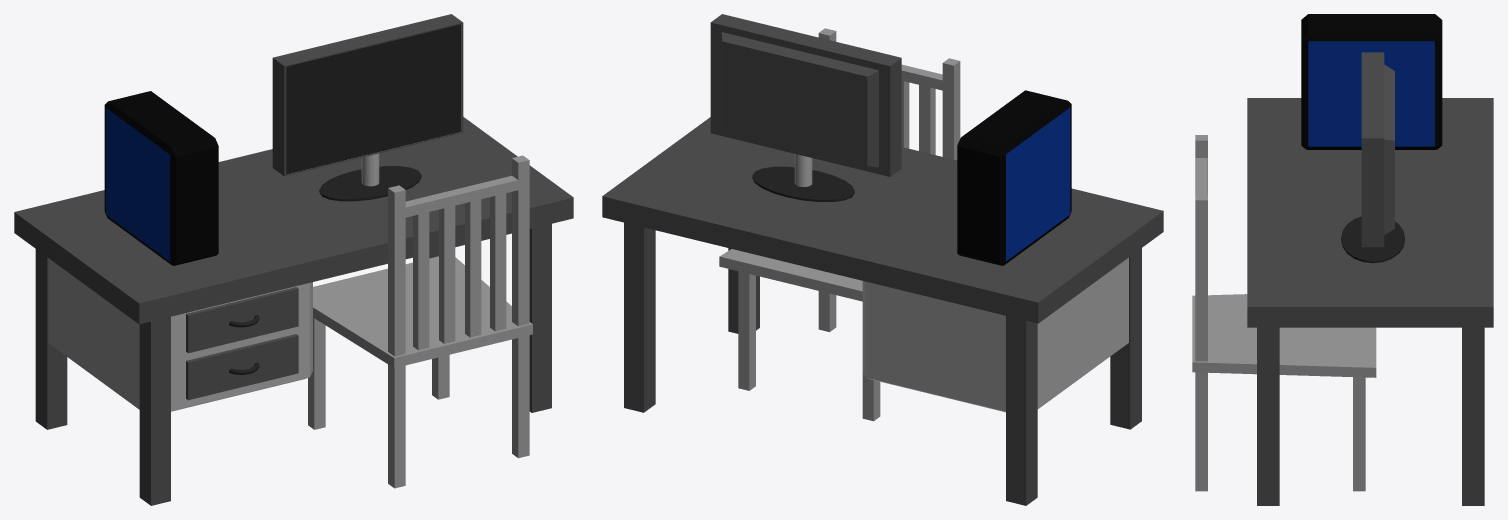
The model's file is DeskWithComp.fbx.
3 views of the same model, side by side, from view 1: azimuth 30°, elevation 25°; view 2: azimuth 150°, elevation 25°; view 3: azimuth 270°, elevation 25° (orthographic).
Visible parts, largest first — view 1: pCube9; view 2: pCube9; view 3: pCube9.
Boxes of the visible parts, bbox=[...] form: pCube9: bbox=[14, 14, 573, 505]; pCube9: bbox=[602, 14, 1163, 505]; pCube9: bbox=[1192, 14, 1493, 505].
Size of the model in its own units: 21.73 by 17.53 by 13.23.
